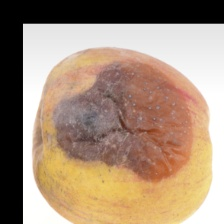apple: (44, 13, 193, 205)
